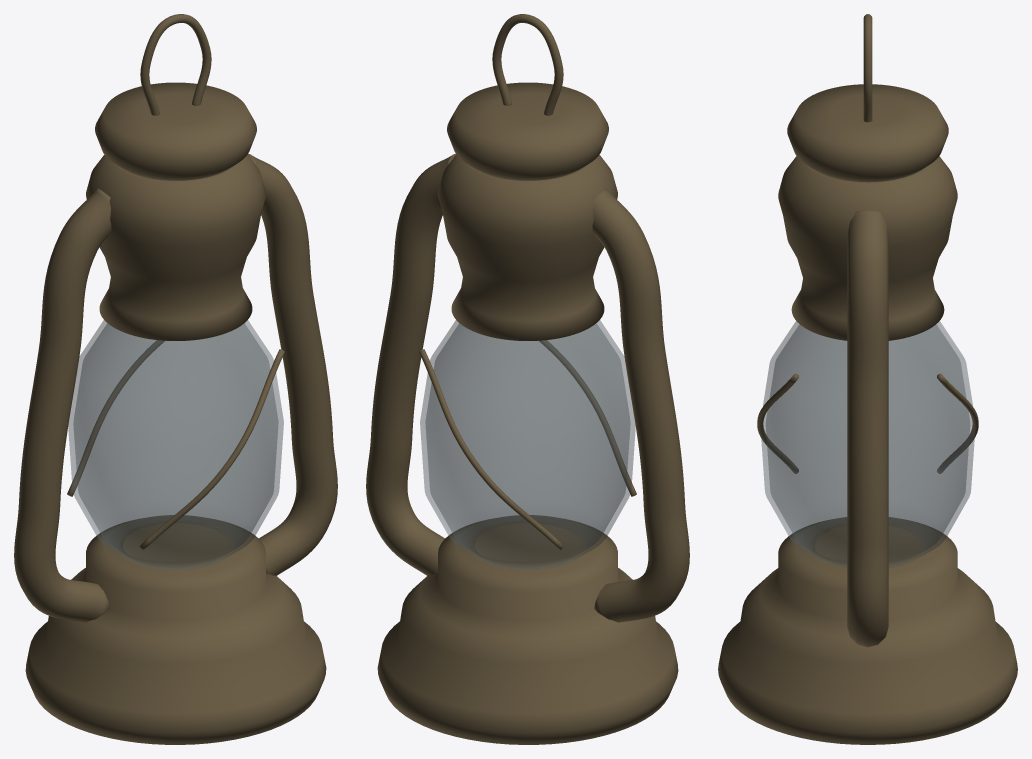
Rendered from static.glb.
3 renders of one model, left to right at view 1: azimuth 30°, elevation 25°; view 2: azimuth 150°, elevation 25°; view 3: azimuth 270°, elevation 25°, orthographic.
Visible parts, largest first — view 1: Fuel base, Globe, Chimney, Cage -1, Cage 1, Top cap, Small cap loop, Cross guard 1, Cross guard -1; view 2: Fuel base, Globe, Chimney, Cage -1, Cage 1, Top cap, Small cap loop, Cross guard -1, Cross guard 1; view 3: Fuel base, Globe, Chimney, Cage 1, Top cap, Small cap loop, Cross guard -1, Cross guard 1.
Boxes of the visible parts, x1,y1,x2,y2 form: Fuel base: [25, 515, 326, 744]; Globe: [68, 320, 283, 569]; Chimney: [86, 154, 265, 340]; Cage -1: [14, 188, 111, 622]; Cage 1: [248, 153, 337, 575]; Top cap: [95, 82, 256, 180]; Small cap loop: [140, 14, 211, 115]; Cross guard 1: [139, 349, 284, 550]; Cross guard -1: [67, 340, 164, 496]; Fuel base: [377, 515, 678, 744]; Globe: [420, 320, 635, 569]; Chimney: [438, 154, 617, 340]; Cage -1: [592, 188, 689, 622]; Cage 1: [366, 153, 455, 575]; Top cap: [447, 82, 608, 180]; Small cap loop: [492, 14, 563, 115]; Cross guard -1: [419, 349, 564, 550]; Cross guard 1: [539, 340, 636, 496]; Fuel base: [718, 517, 1017, 744]; Globe: [760, 321, 975, 568]; Chimney: [778, 156, 957, 340]; Cage 1: [847, 210, 888, 647]; Top cap: [787, 84, 948, 182]; Small cap loop: [863, 14, 872, 122]; Cross guard -1: [937, 373, 978, 473]; Cross guard 1: [757, 373, 798, 473].
Bounding box in the file's own units: 0.4082 × 0.82 × 0.334.
9 materials, 9 textured.
